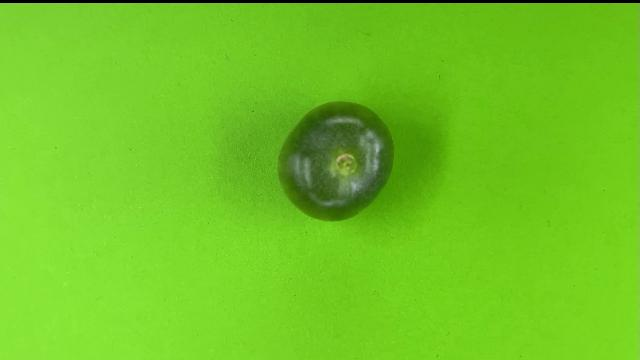Fruit Maturation: (274, 100, 397, 224)
